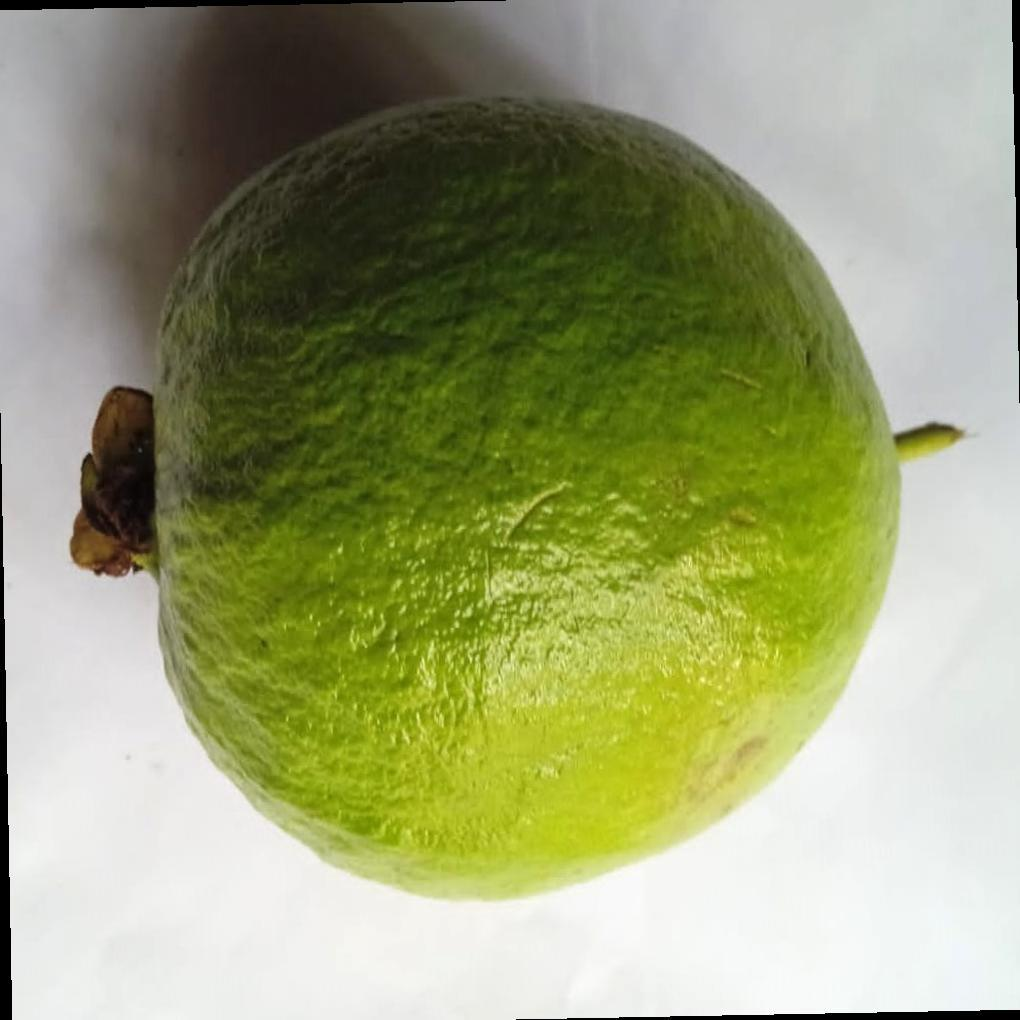FreshGuava: (147, 95, 956, 908)
